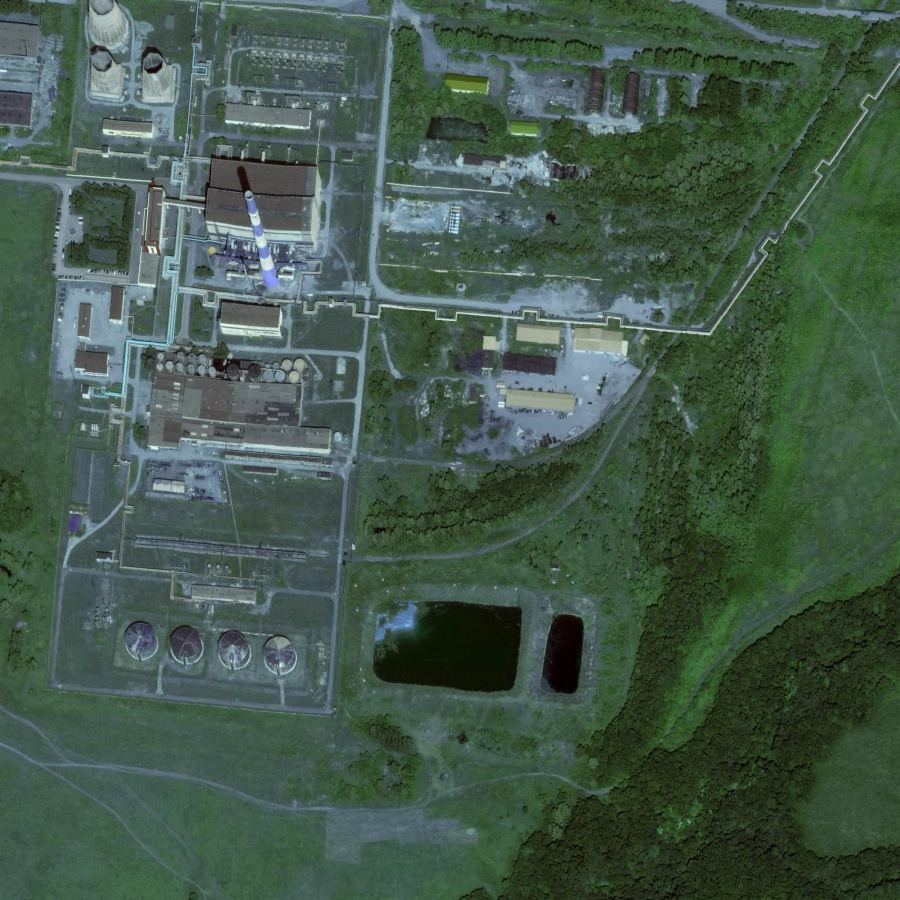PowerPlant: (118, 570, 328, 736), (363, 587, 597, 714)
